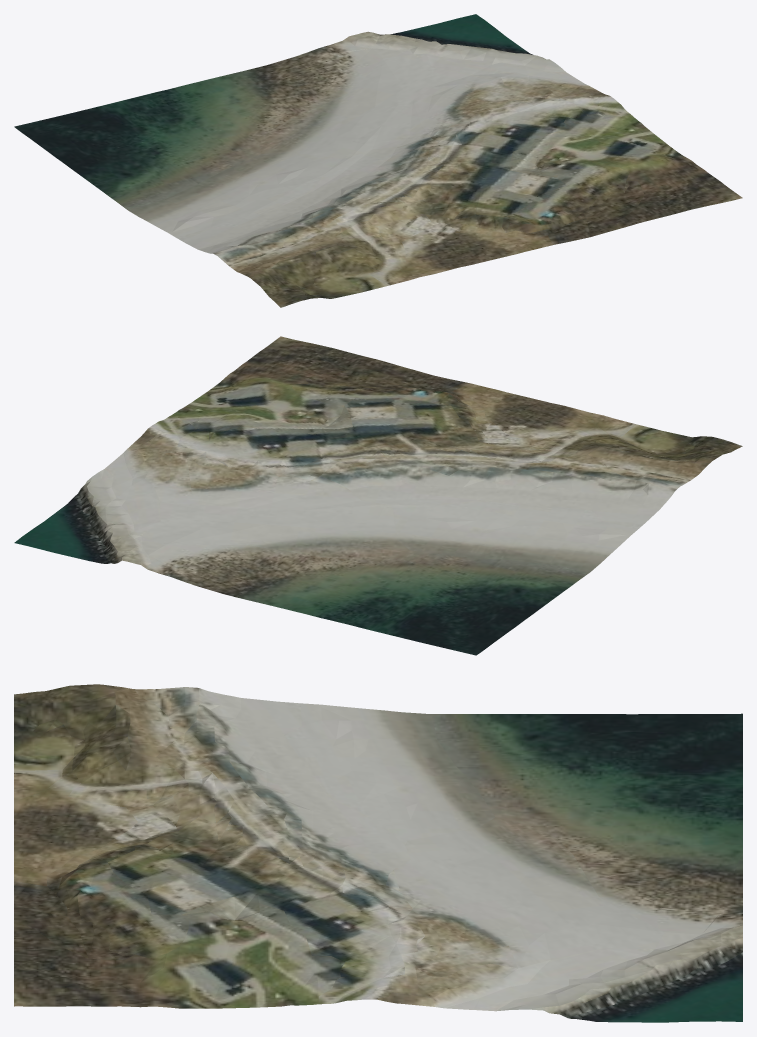
3 views of the same model, one above another, from view 1: azimuth 30°, elevation 25°; view 2: azimuth 150°, elevation 25°; view 3: azimuth 270°, elevation 25° (orthographic). The views are drawn at different scales.
Bounding box in the file's own units: 209 × 9.76 × 209.
Materials: 2 (2 with a texture image).
